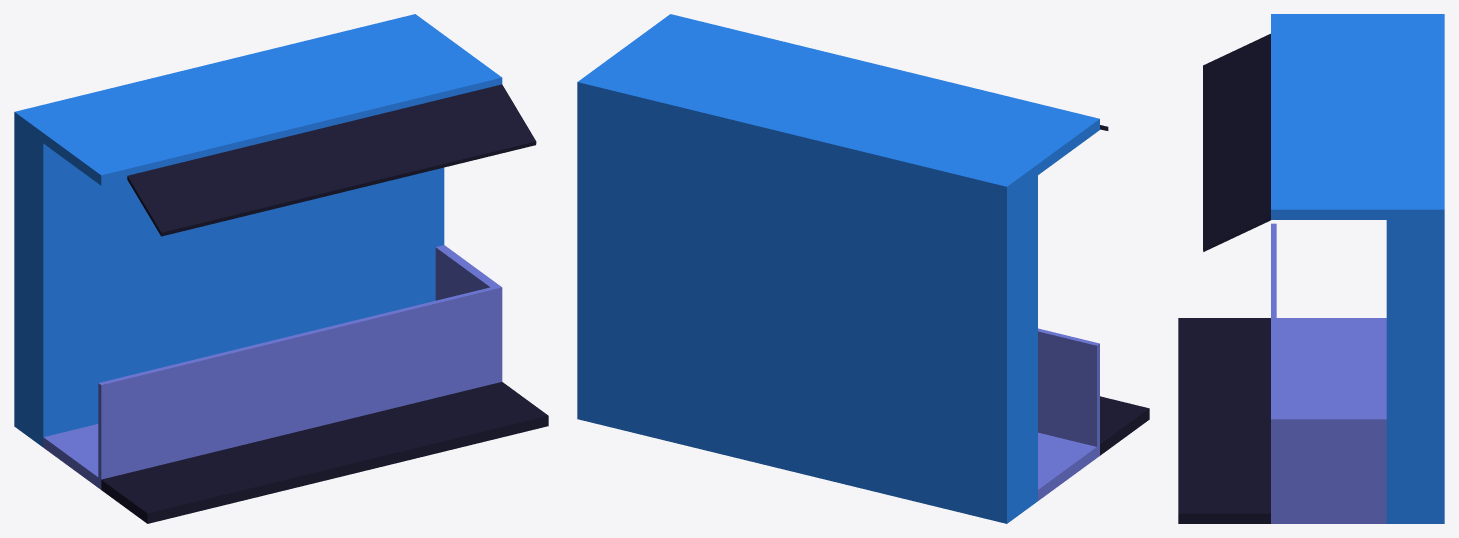
3 views of the same model, side by side, from view 1: azimuth 30°, elevation 25°; view 2: azimuth 150°, elevation 25°; view 3: azimuth 270°, elevation 25° (orthographic). The views are drawn at different scales.
Parts seen in each view (by area): view 1: Mesh_0.004; view 2: Mesh_0.004; view 3: Mesh_0.004.
Part boxes in pixels (x1,y1,x2,y2): Mesh_0.004: (14, 14, 548, 523); Mesh_0.004: (577, 14, 1149, 523); Mesh_0.004: (1178, 14, 1444, 523).
Bounding box in the file's own units: 4 × 3 × 2.3.
